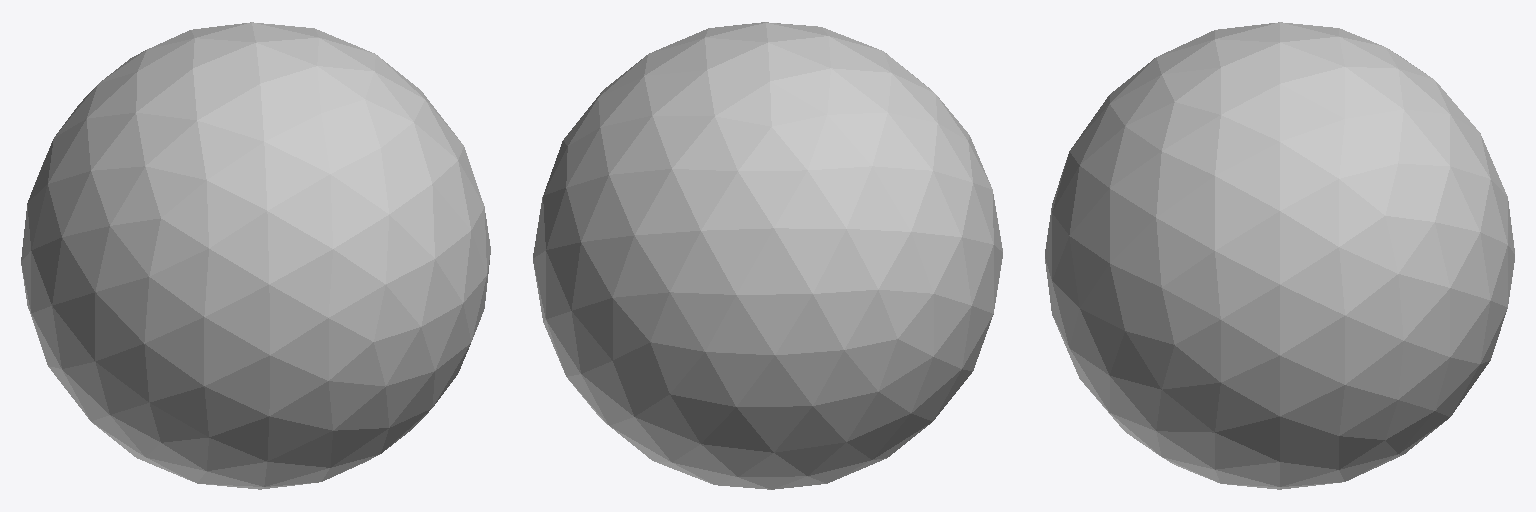
The model's file is ball320.obj.
3 renders of one model, left to right at view 1: azimuth 30°, elevation 25°; view 2: azimuth 150°, elevation 25°; view 3: azimuth 270°, elevation 25°, orthographic.
Visible parts, largest first — view 1: pPlatonic1; view 2: pPlatonic1; view 3: pPlatonic1.
Boxes of the visible parts, x1=… form: pPlatonic1: x1=21, y1=22, x2=490, y2=489; pPlatonic1: x1=533, y1=22, x2=1002, y2=489; pPlatonic1: x1=1045, y1=22, x2=1514, y2=489.
Bounding box in the file's own units: 2 × 2 × 2.